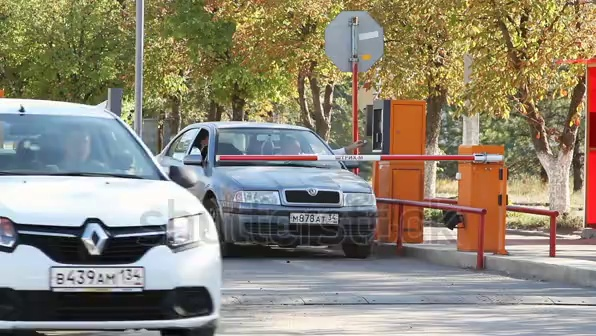licenseplate: (44, 263, 149, 286), (288, 211, 344, 225)
